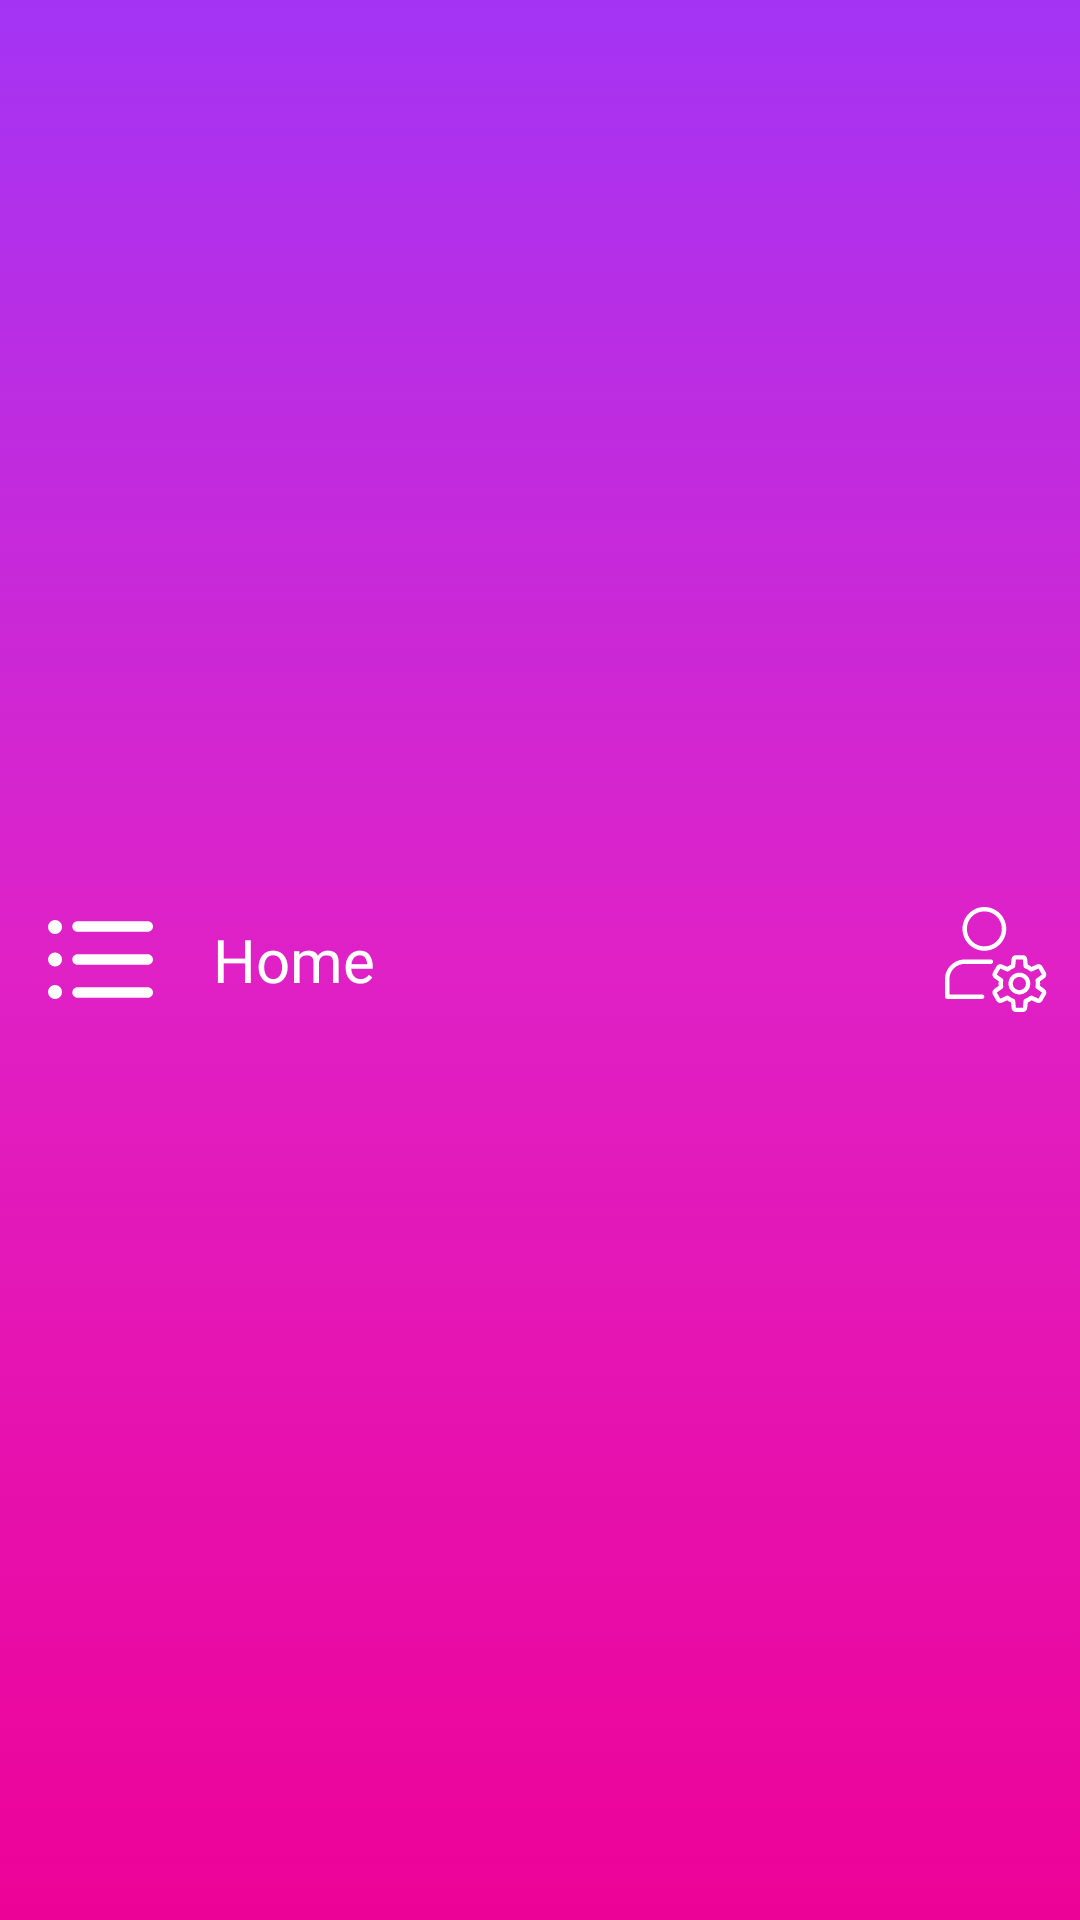

Icon bounding boxes for this 1080x1920 phone screenshot, format (x1, y1, x2, y2):
menu: (48, 920, 153, 999)
profile: (945, 907, 1047, 1012)
